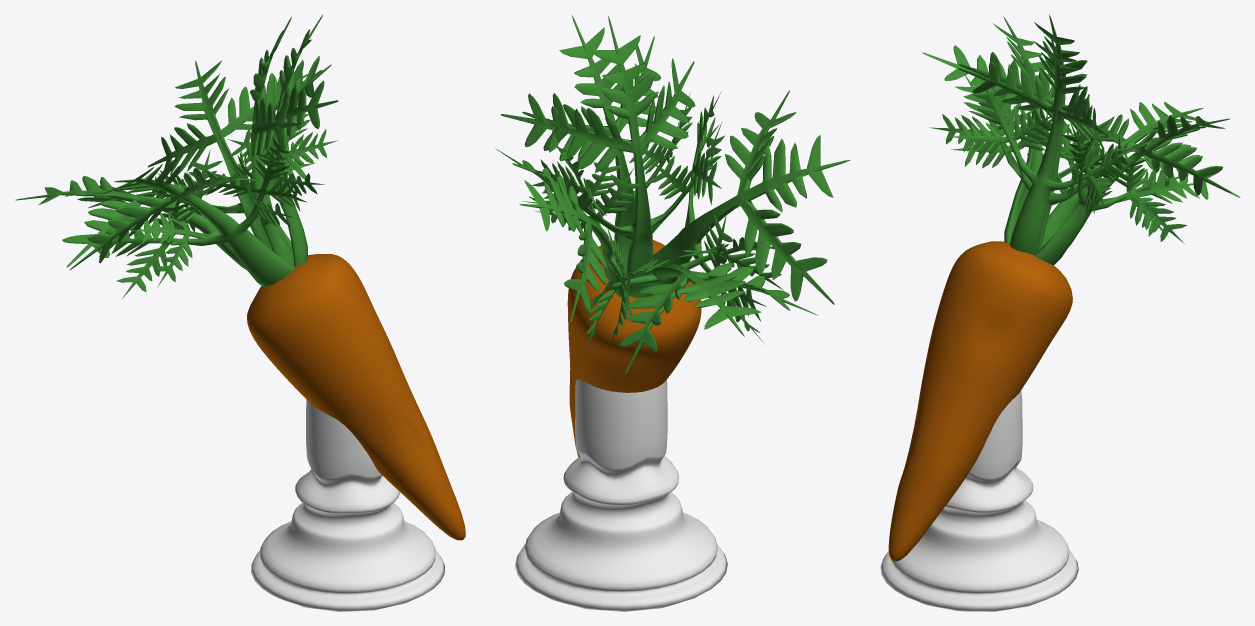
File: ninjin.fbx
3 views of the same model, side by side, from view 1: azimuth 30°, elevation 25°; view 2: azimuth 150°, elevation 25°; view 3: azimuth 270°, elevation 25° (orthographic). The views are drawn at different scales.
Parts seen in each view (by area): view 1: polySurface21; view 2: polySurface21; view 3: polySurface21.
Boxes of the visible parts, box(x1,y1,x2,y2) form: polySurface21: box(15, 15, 465, 611); polySurface21: box(495, 14, 850, 611); polySurface21: box(880, 14, 1240, 611).
Bounding box in the file's own units: 12.4 × 20.01 × 11.81.
